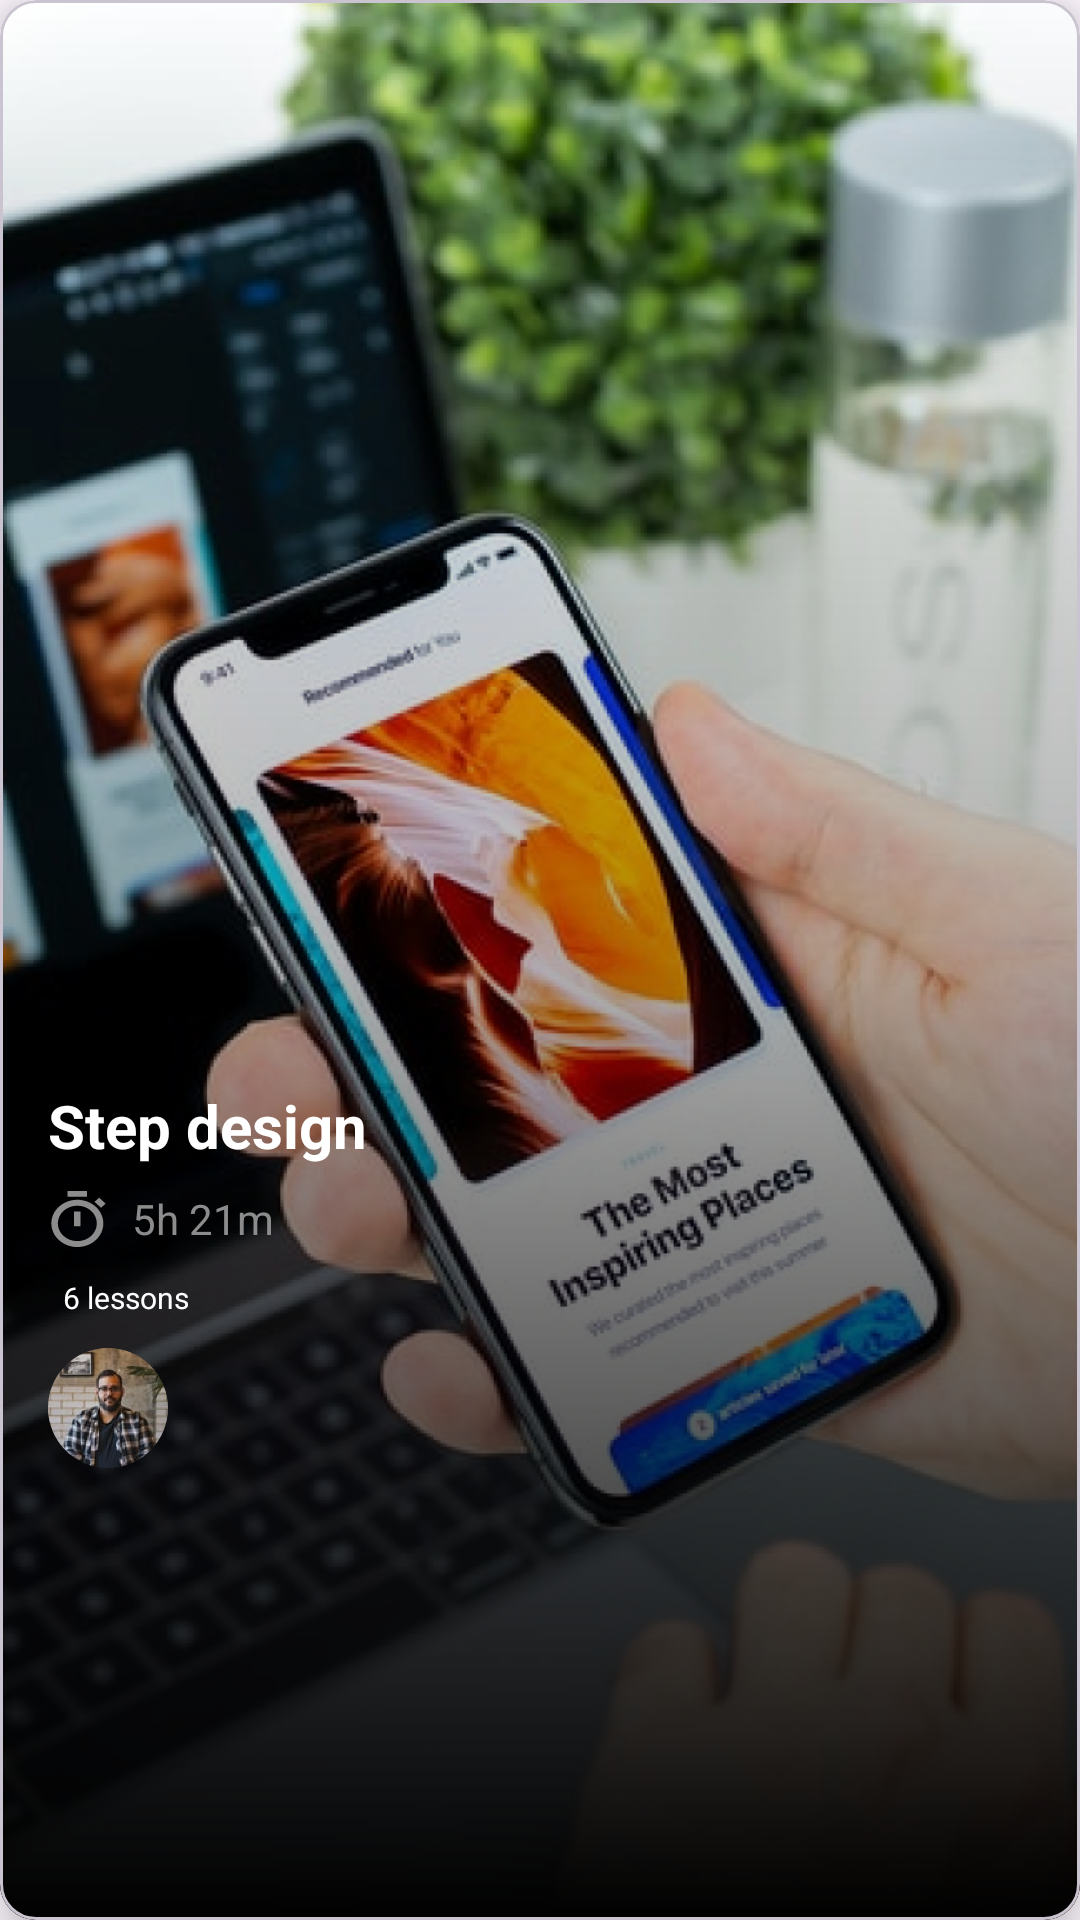

Locate icon controls on the screen. Image size 1080px x 1920px, boxes as (x1, y1, x2, y2).
stopwatch: (51, 1191, 106, 1247)
